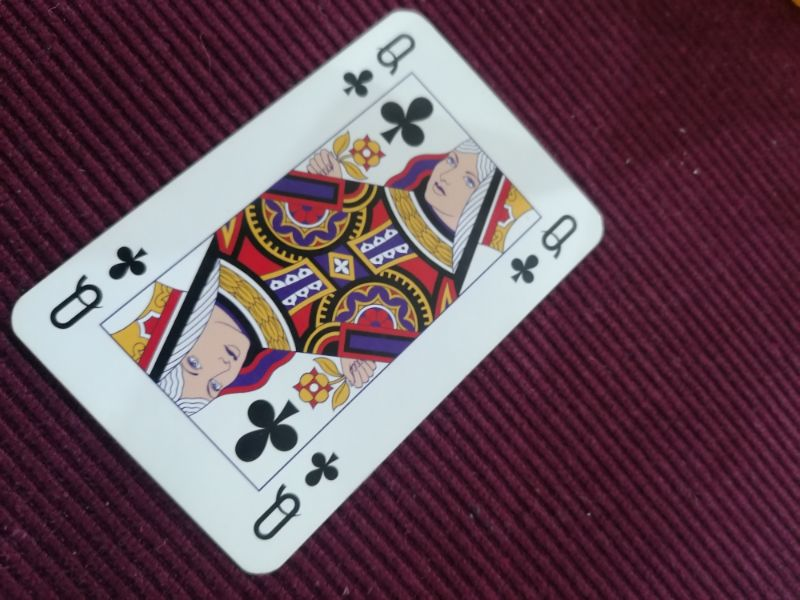Qc: (46, 239, 151, 335), (251, 445, 343, 542), (506, 209, 582, 286), (341, 29, 419, 100)
